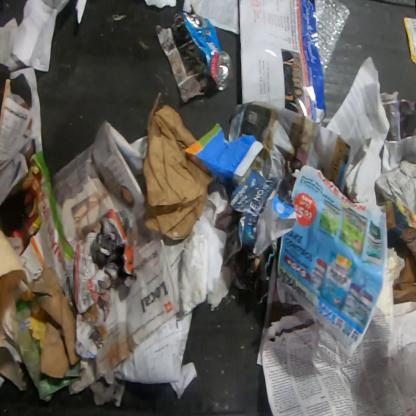cardboard: (19, 228, 82, 380), (0, 299, 83, 404), (393, 238, 415, 305)
metal: (179, 10, 233, 91)
soft_plastic: (313, 0, 352, 81)
